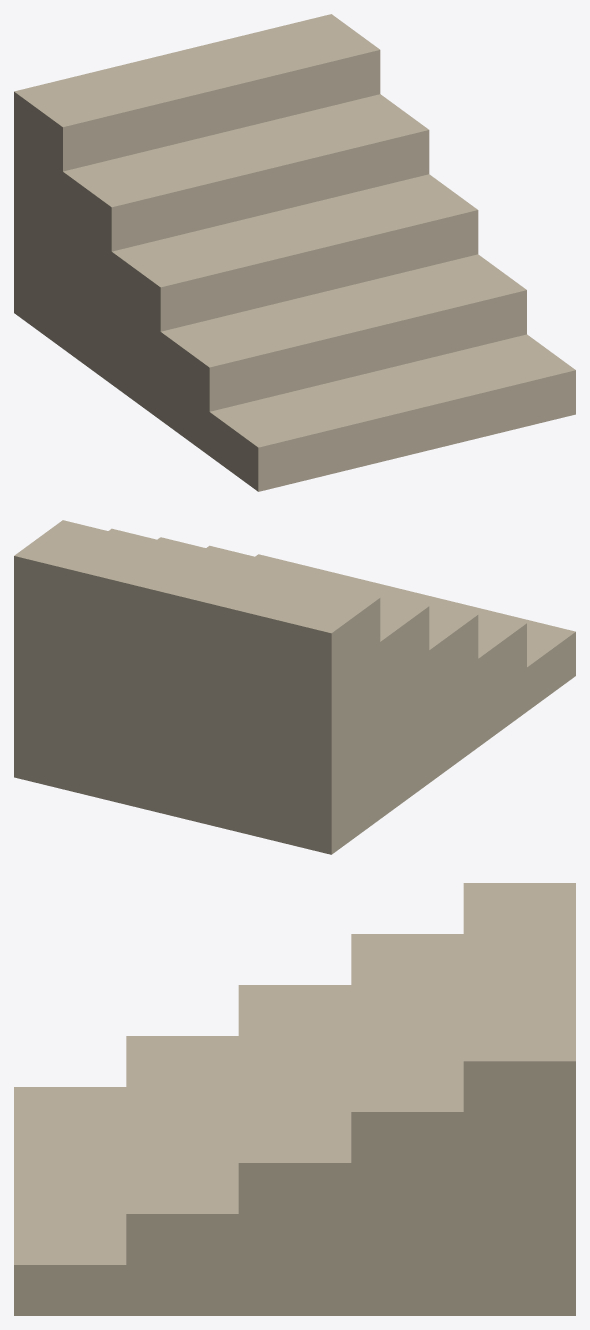
Rendered from steps.obj.
3 views of the same model, one above another, from view 1: azimuth 30°, elevation 25°; view 2: azimuth 150°, elevation 25°; view 3: azimuth 270°, elevation 25° (orthographic). The views are drawn at different scales.
Size of the model in its own units: 3 by 2 by 4.
